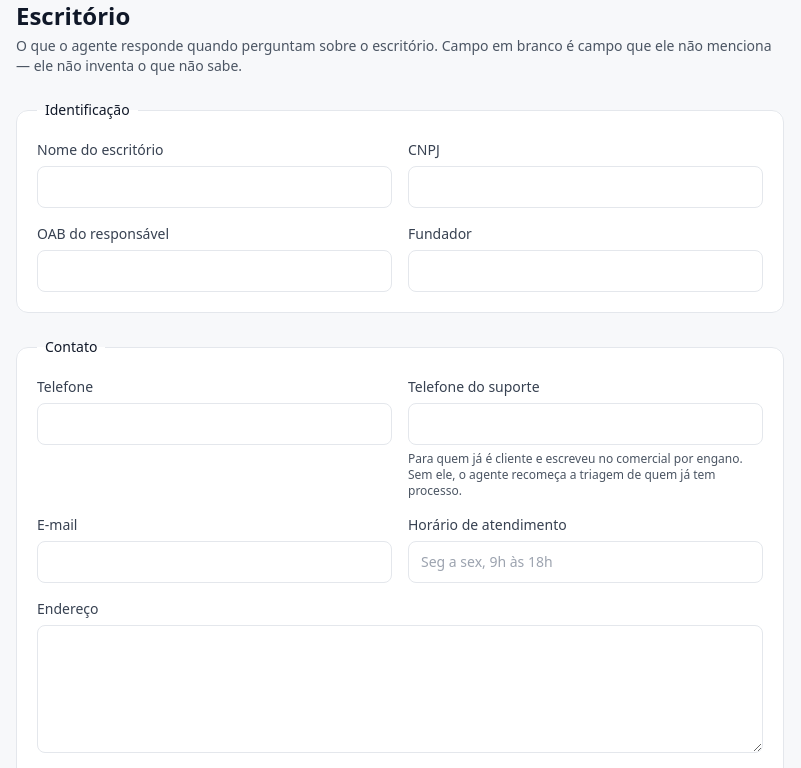
Test: dados do escritório › erro ao salvar aparece e não é confundido com sucesso
Step 1. Type "X" into the field labelled "Nome do escritório" → (214, 187), box [37, 166, 392, 208]
(page scrolled)
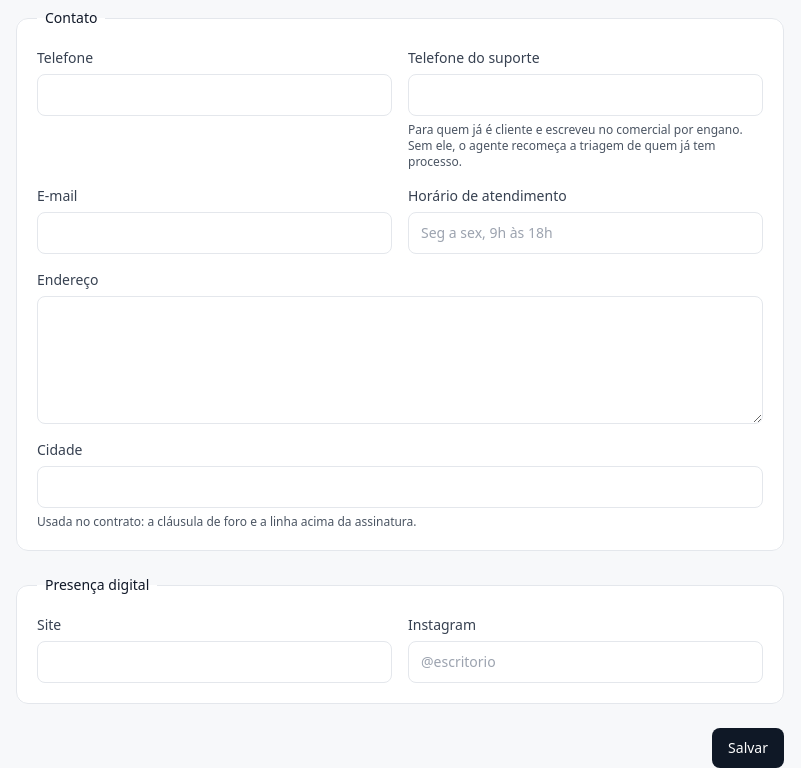
Step 2. Click the button "Salvar" → (748, 748), box [712, 728, 784, 767]
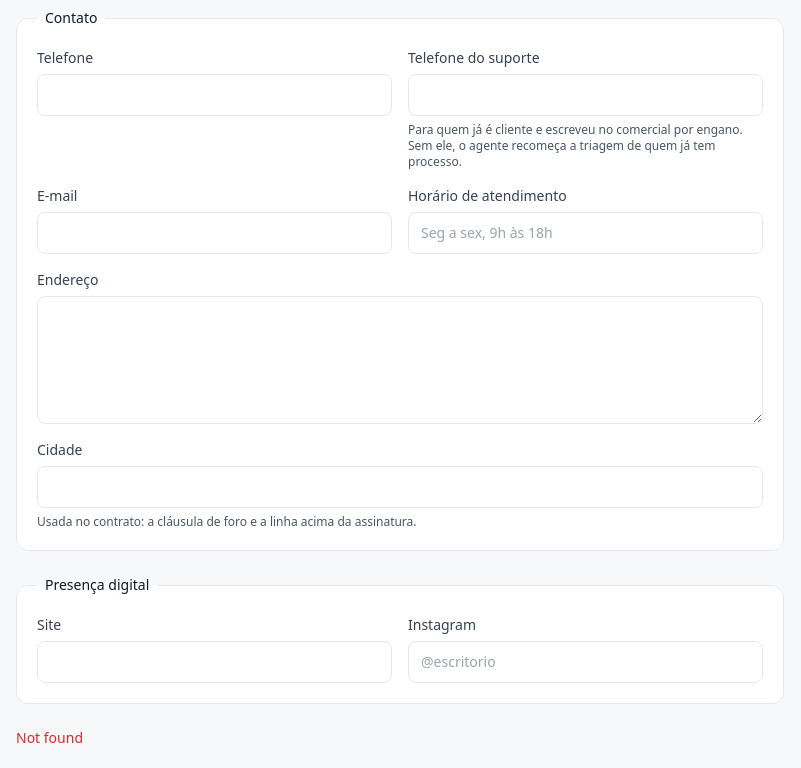
Now the message reads "Not found", box [16, 728, 83, 747]
